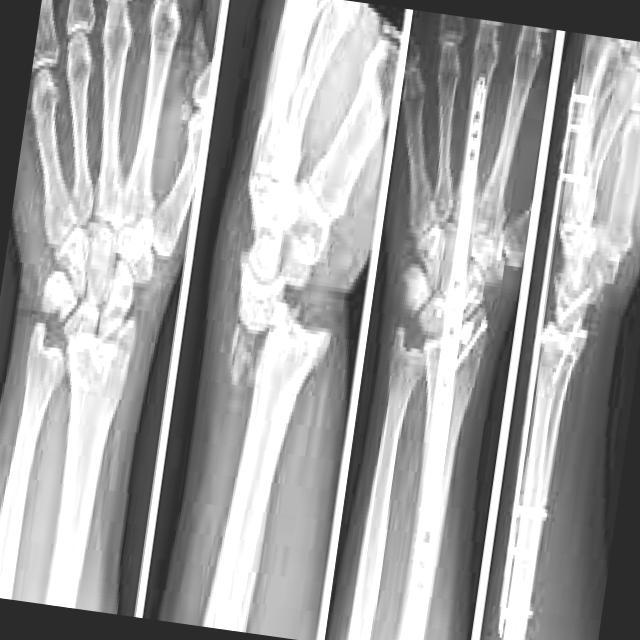Fracture Dislocation: (233, 274, 330, 354), (34, 316, 82, 372), (391, 323, 428, 375)
